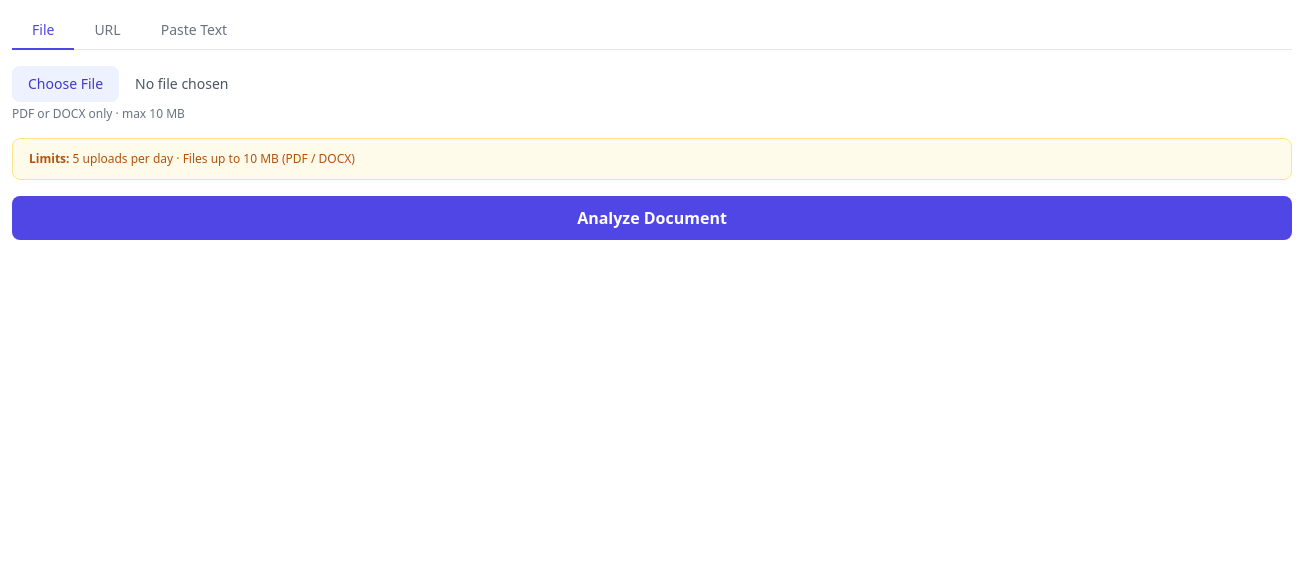
it: shows error with role="alert" when text is too short
Click the tab "Paste Text".
click(194, 31)  # box [141,12,247,50]
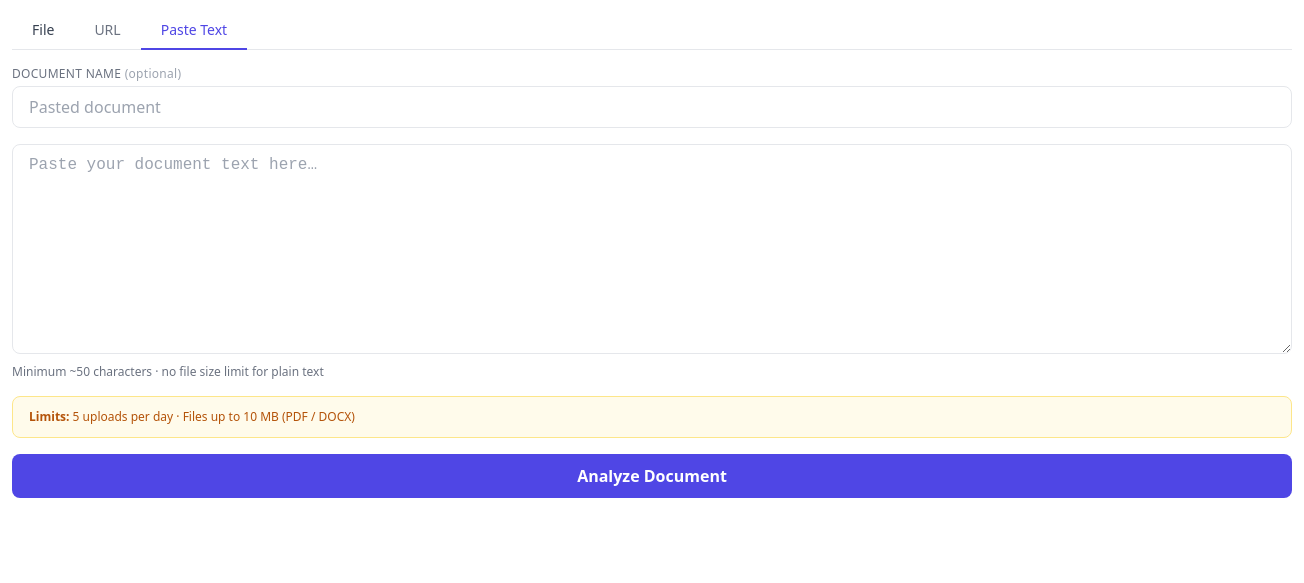
Type "Too short" into the text box with placeholder "Paste your document text here…".
click(652, 249); type("Too short")  # box [12,144,1292,354]
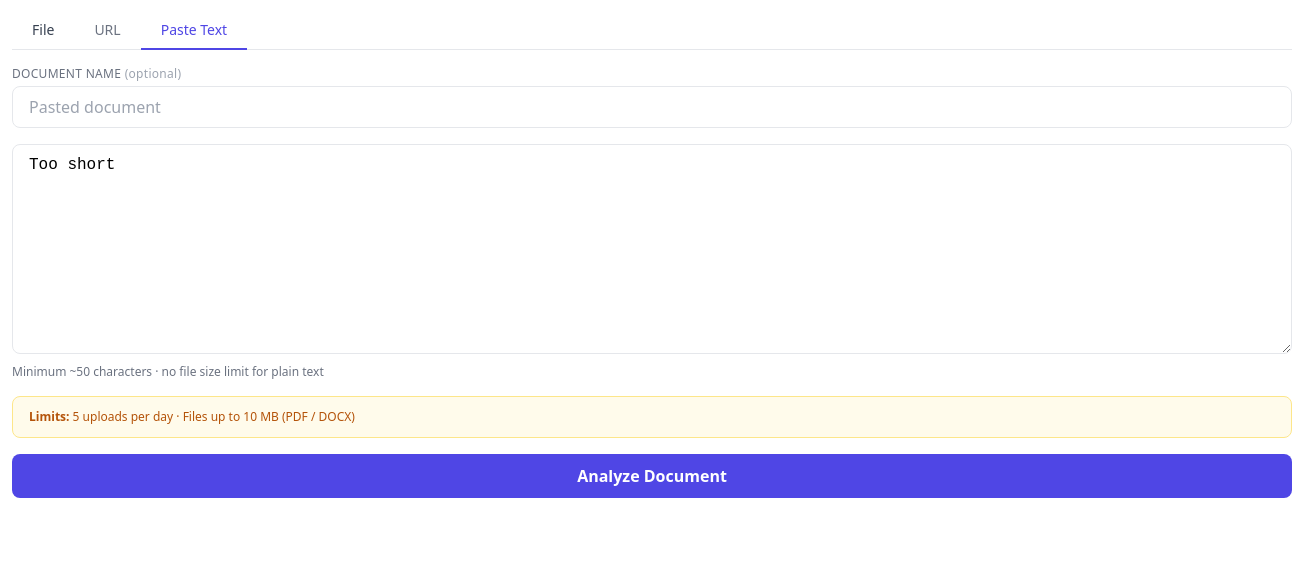
Click the button "Analyze Document".
click(652, 476)  # box [12,454,1292,498]
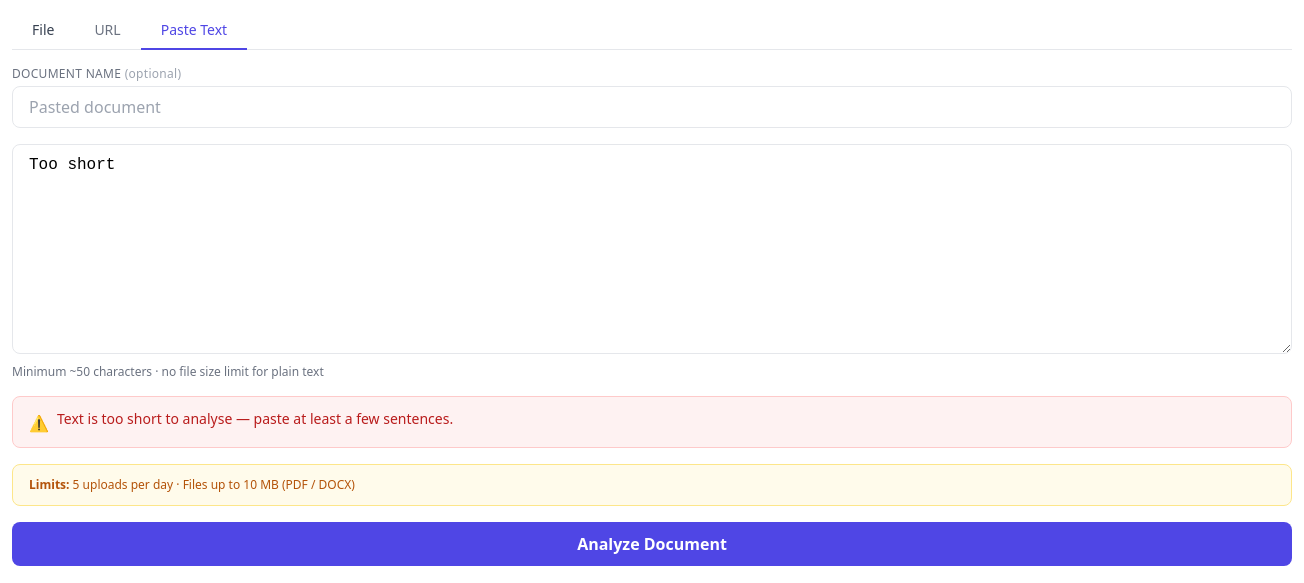
Expected: the message shows "too short", [57,409,453,428]
